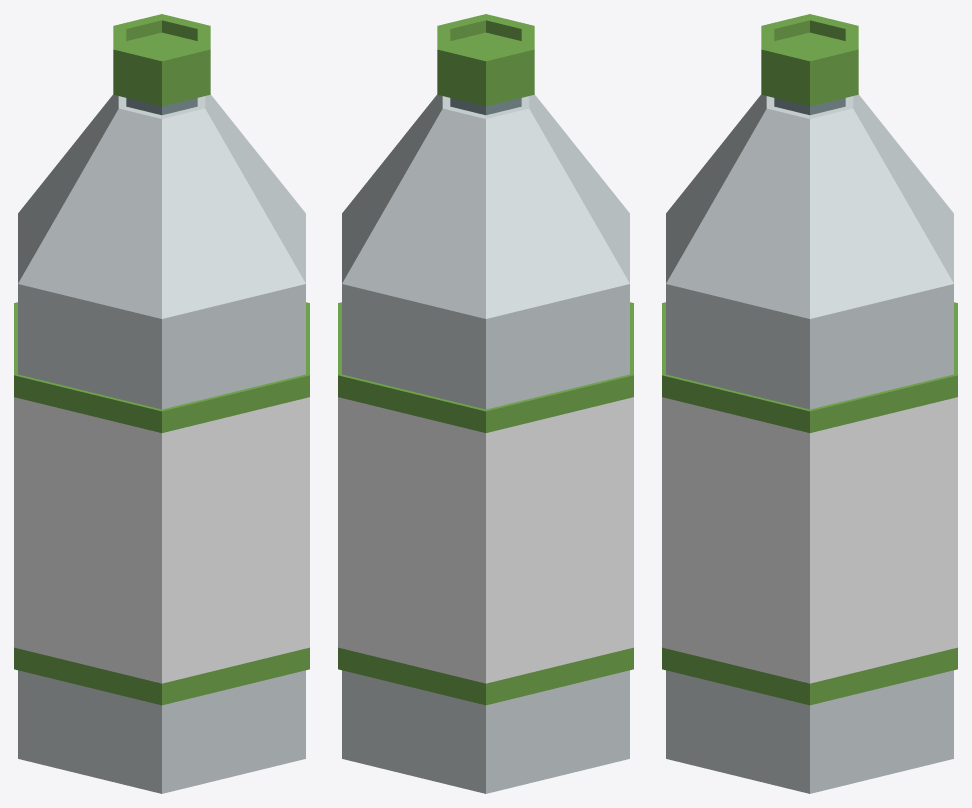
The model's file is EcofuelBottle.fbx.
3 renders of one model, left to right at view 1: azimuth 30°, elevation 25°; view 2: azimuth 150°, elevation 25°; view 3: azimuth 270°, elevation 25°, orthographic.
Visible parts, largest first — view 1: Cylinder; view 2: Cylinder; view 3: Cylinder.
Part boxes in pixels (bbox=[...]): Cylinder: bbox=[14, 14, 309, 793]; Cylinder: bbox=[338, 14, 633, 793]; Cylinder: bbox=[662, 14, 957, 793].
Size of the model in its own units: 205 by 455 by 178.
